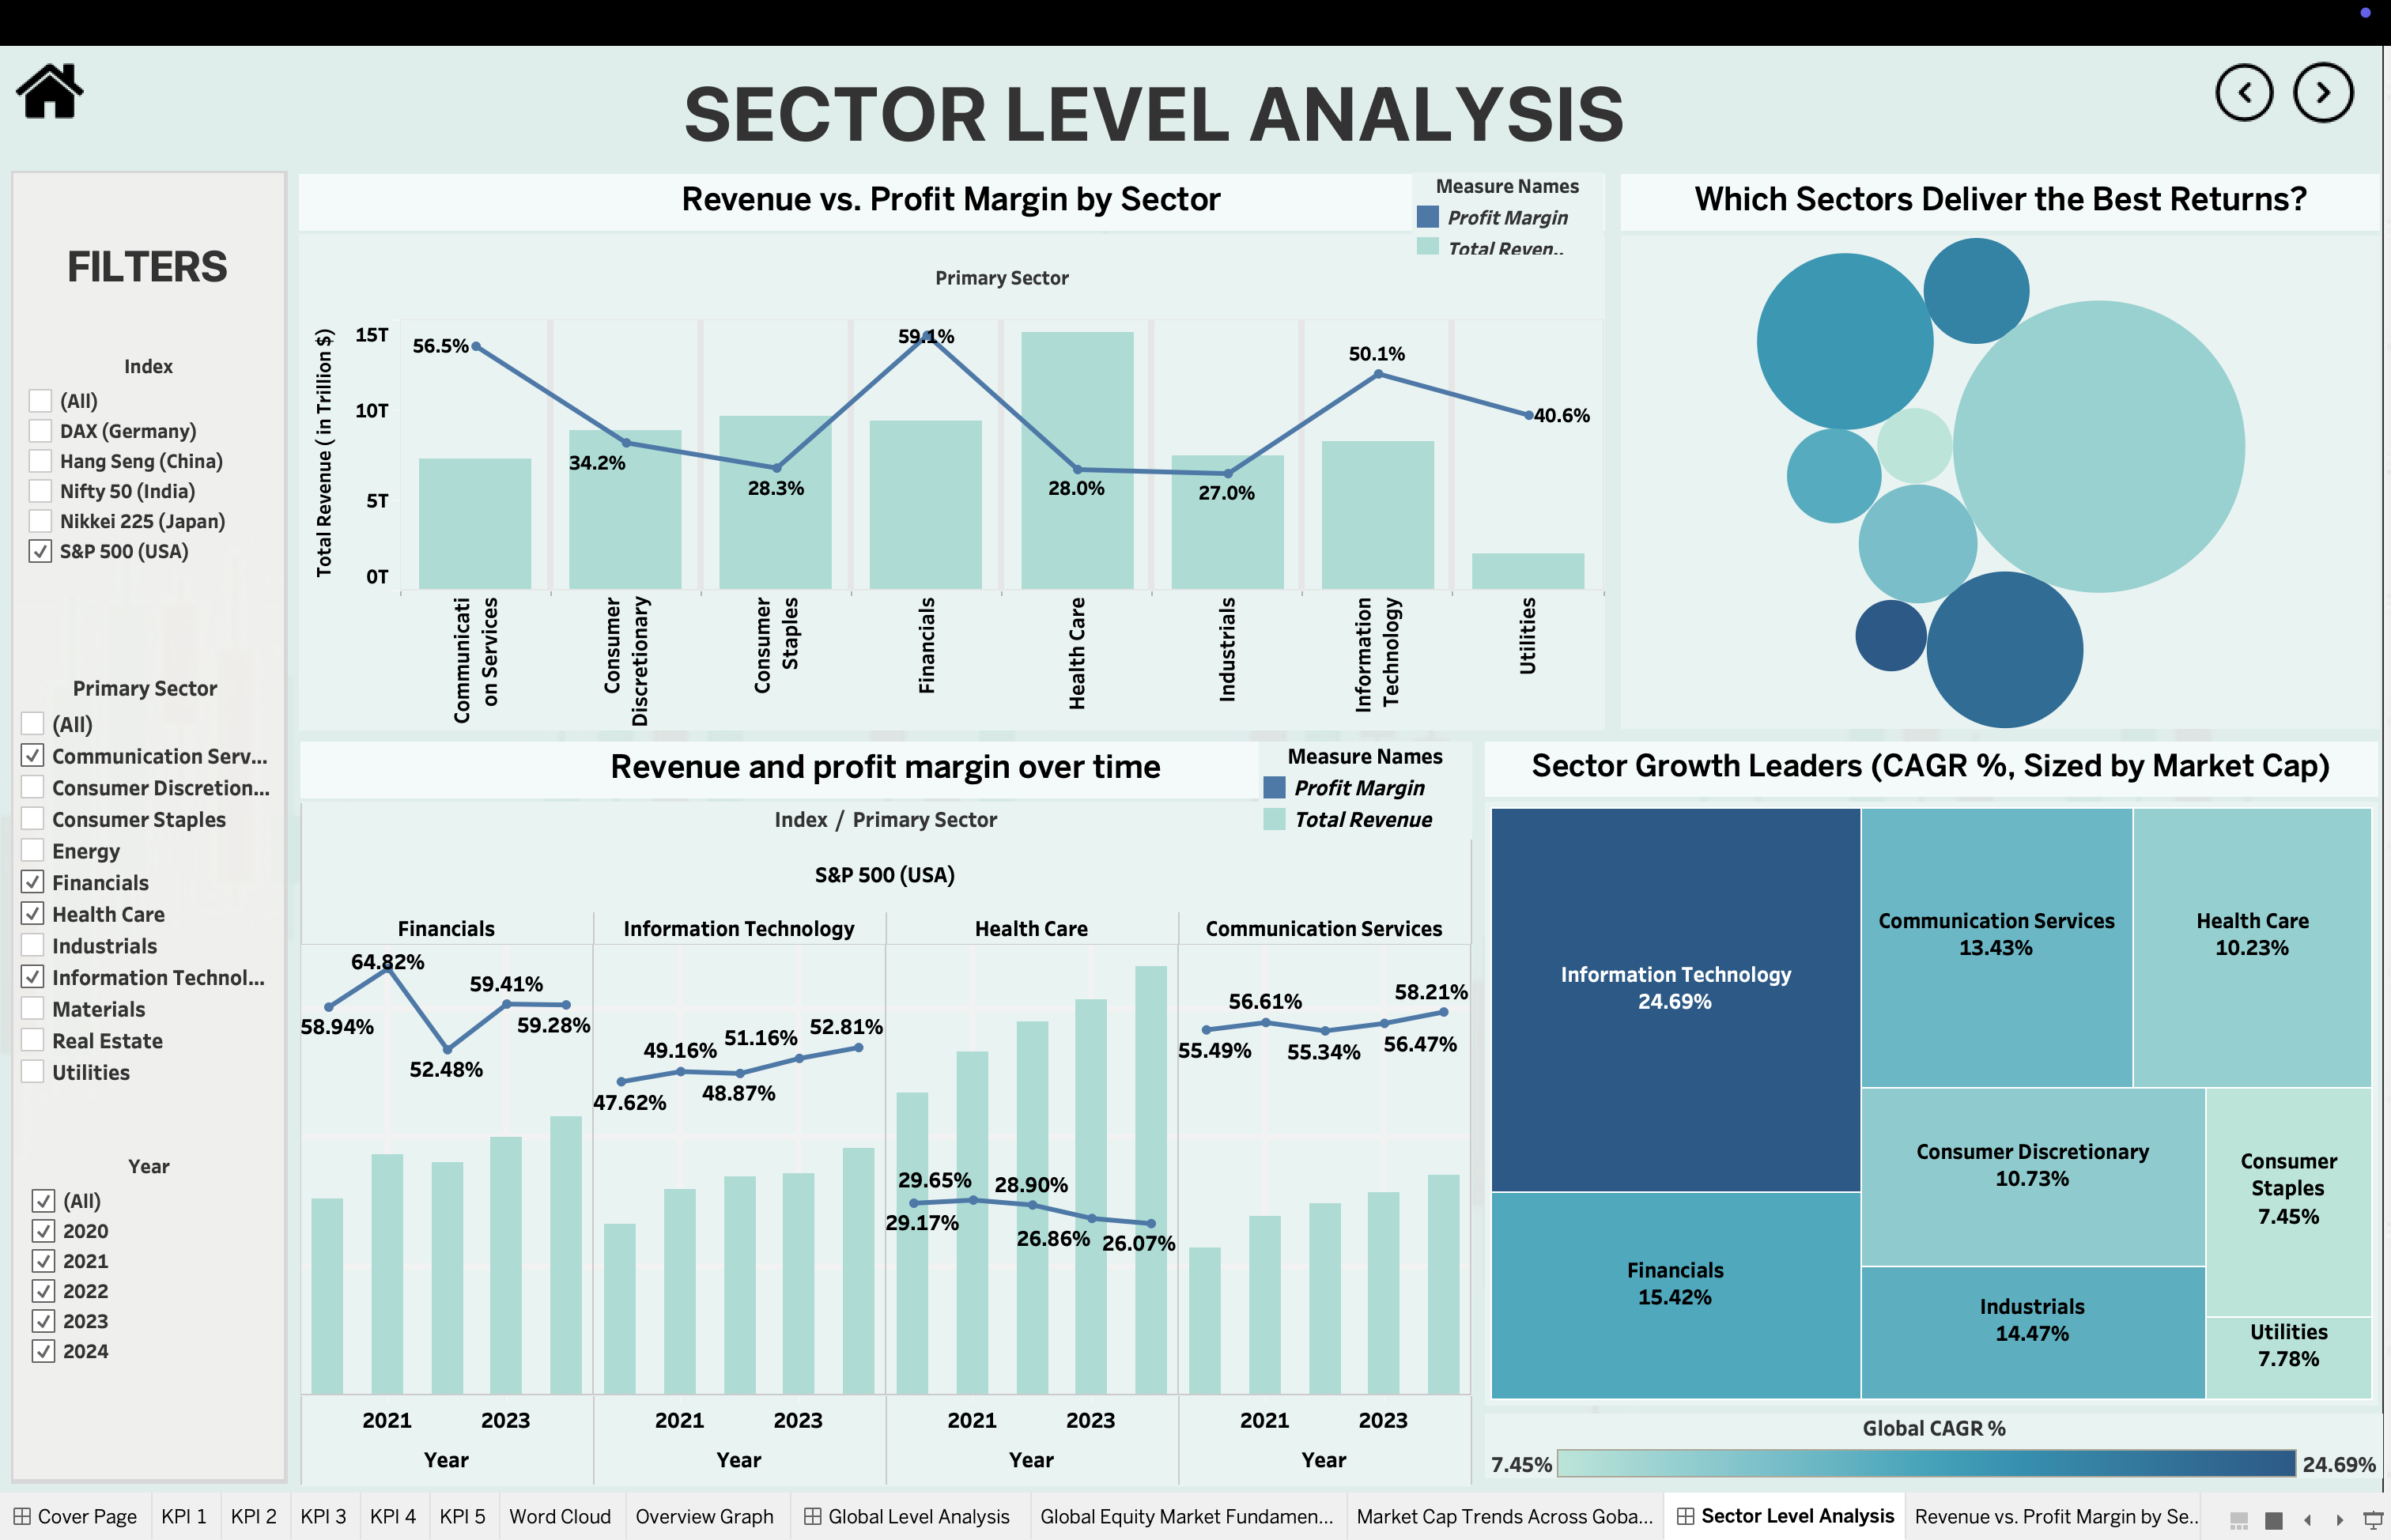

The page's visual inventory and layout, read from the dashboard file:
{"tool":"tableau","page":{"name":"Sector Level Analysis","canvas":[1000,1000],"units":"permille","ordinal":4},"visuals":[{"type":"dashboard-object","box":[3.9,7.5,33.4,46.8]},{"type":"dashboard-object","box":[925.4,7.5,27.3,48.3]},{"type":"dashboard-object","box":[955.4,9.1,32.9,46.8]},{"type":"worksheet","title":"Sector Info","mark":"Automatic","box":[44.1,11.3,877.9,70.9]},{"type":"worksheet","title":"box (2)","mark":"Automatic","box":[4.6,86.7,116.1,908.8]},{"type":"legend","title":"Revenue vs. Profit Margin by Sector (2020–2024)","param":"[federated.0pgchlx1p5gws61gtvl2m0kqny3y].[:Measure Names]","box":[590.9,87.5,79.8,57.3]},{"type":"worksheet","title":"Revenue vs. Profit Margin by Sector (2020–2024)","mark":"Automatic","rows":["Total Revenue","Calculation_652459001683488768"],"cols":["Primary Sector"],"box":[124.9,88.2,546.6,384.6]},{"type":"worksheet","title":"Which sector deliver the best returns","mark":"Circle","box":[677.7,88.2,317.8,383.9]},{"type":"worksheet","title":"FILTERS","mark":"Automatic","box":[7.2,132.7,110.6,40.7]},{"type":"filter","title":"Revenue vs. Profit Margin by Sector (2020–2024)","param":"[federated.0pgchlx1p5gws61gtvl2m0kqny3y].[none:Index:nk]","box":[7.6,211.9,108.8,150.1]},{"type":"filter","title":"Over time revenue and profit margin","param":"[federated.0pgchlx1p5gws61gtvl2m0kqny3y].[none:Primary Sector:nk]","box":[4.9,433.8,112.8,310.9]},{"type":"worksheet","title":"Sector Growth Leaders (CAGR %, Sized by Market Cap)","mark":"Square","box":[621.3,480.4,373.8,459.3]},{"type":"legend","title":"Over time revenue and profit margin","param":"[federated.0pgchlx1p5gws61gtvl2m0kqny3y].[:Measure Names]","box":[526.7,481.1,89.1,68.1]},{"type":"worksheet","title":"Over time revenue and profit margin","mark":"Automatic","rows":["Total Revenue","Calculation_652459001683488768"],"cols":["Index","Primary Sector","Year"],"box":[125.7,481.2,490.1,515.1]},{"type":"filter","title":"Revenue vs. Profit Margin by Sector (2020–2024)","param":"[federated.0pgchlx1p5gws61gtvl2m0kqny3y].[yr:Year:ok]","box":[9.4,765.5,106.5,192.3]},{"type":"legend","title":"Sector Growth Leaders (CAGR %, Sized by Market Cap)","param":"[federated.0pgchlx1p5gws61gtvl2m0kqny3y].[usr:Calculation_174936699392819209:qk]","box":[620.9,945.7,376,45.2]}]}

Visuals, with their boxes on the dashboard's canvas, which has no fixed pixel size, in thousandths of its width and height (x1, y1, x2, y2). These are canvas units, not pixel positions in the 2391x1540 screenshot, which may show the page scaled, cropped or inside an application window:
dashboard-object: select_region(4, 8, 37, 54)
dashboard-object: select_region(925, 8, 953, 56)
dashboard-object: select_region(955, 9, 988, 56)
"Sector Info" worksheet: select_region(44, 11, 922, 82)
"box (2)" worksheet: select_region(5, 87, 121, 996)
"Revenue vs. Profit Margin by Sector (2020–2024)" legend: select_region(591, 88, 671, 145)
"Revenue vs. Profit Margin by Sector (2020–2024)" worksheet: select_region(125, 88, 672, 473)
"Which sector deliver the best returns" worksheet (Circle marks): select_region(678, 88, 996, 472)
"FILTERS" worksheet: select_region(7, 133, 118, 173)
"Revenue vs. Profit Margin by Sector (2020–2024)" filter: select_region(8, 212, 116, 362)
"Over time revenue and profit margin" filter: select_region(5, 434, 118, 745)
"Sector Growth Leaders (CAGR %, Sized by Market Cap)" worksheet (Square marks): select_region(621, 480, 995, 940)
"Over time revenue and profit margin" legend: select_region(527, 481, 616, 549)
"Over time revenue and profit margin" worksheet: select_region(126, 481, 616, 996)
"Revenue vs. Profit Margin by Sector (2020–2024)" filter: select_region(9, 766, 116, 958)
"Sector Growth Leaders (CAGR %, Sized by Market Cap)" legend: select_region(621, 946, 997, 991)
